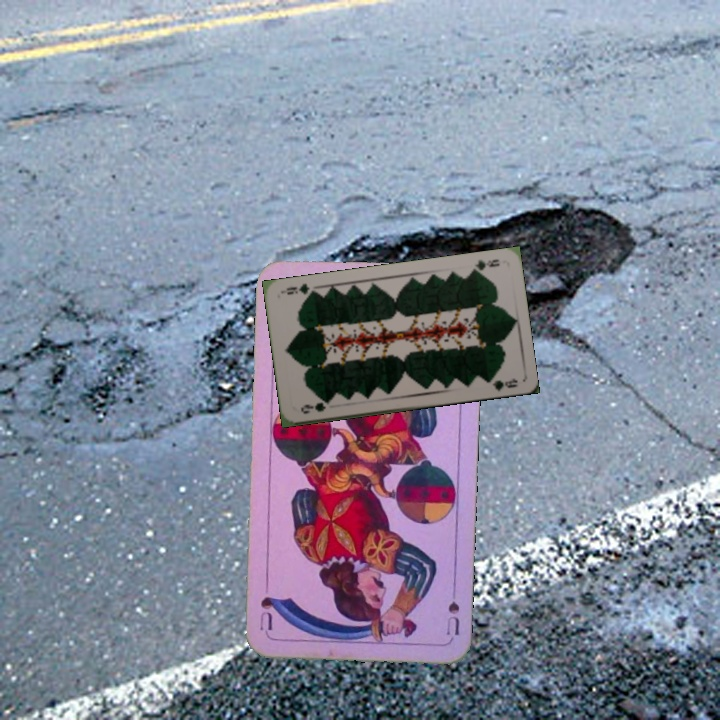G9: (466, 255, 502, 275), (297, 397, 333, 416)
SU: (442, 580, 462, 638)
